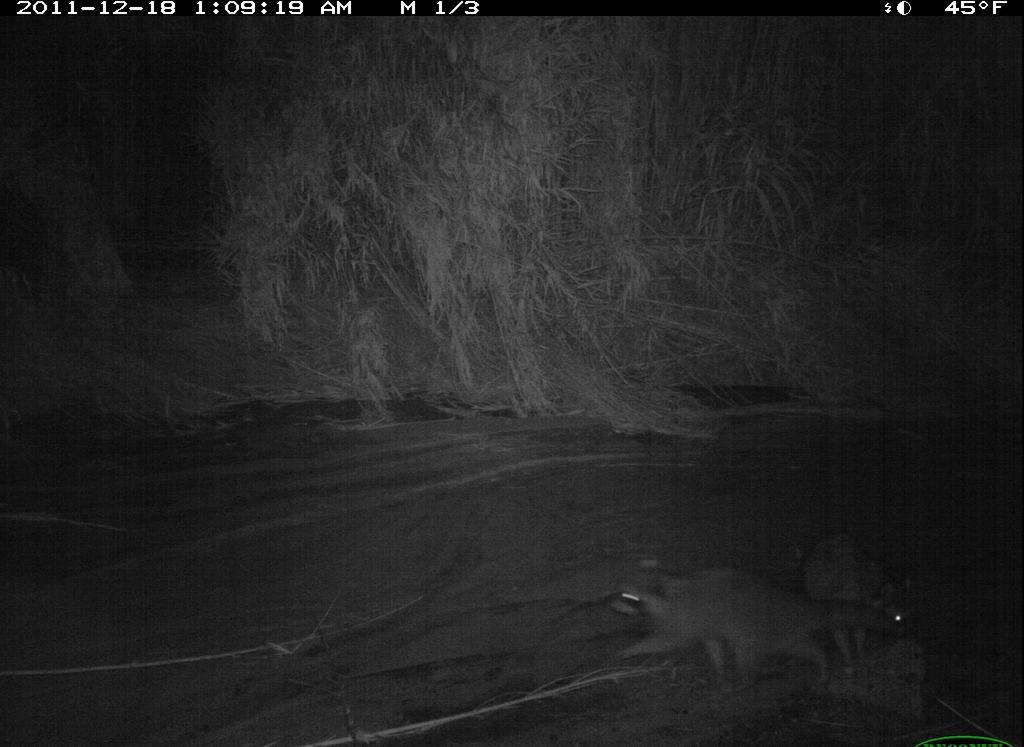raccoon: (609, 550, 897, 697), (790, 534, 916, 680)
